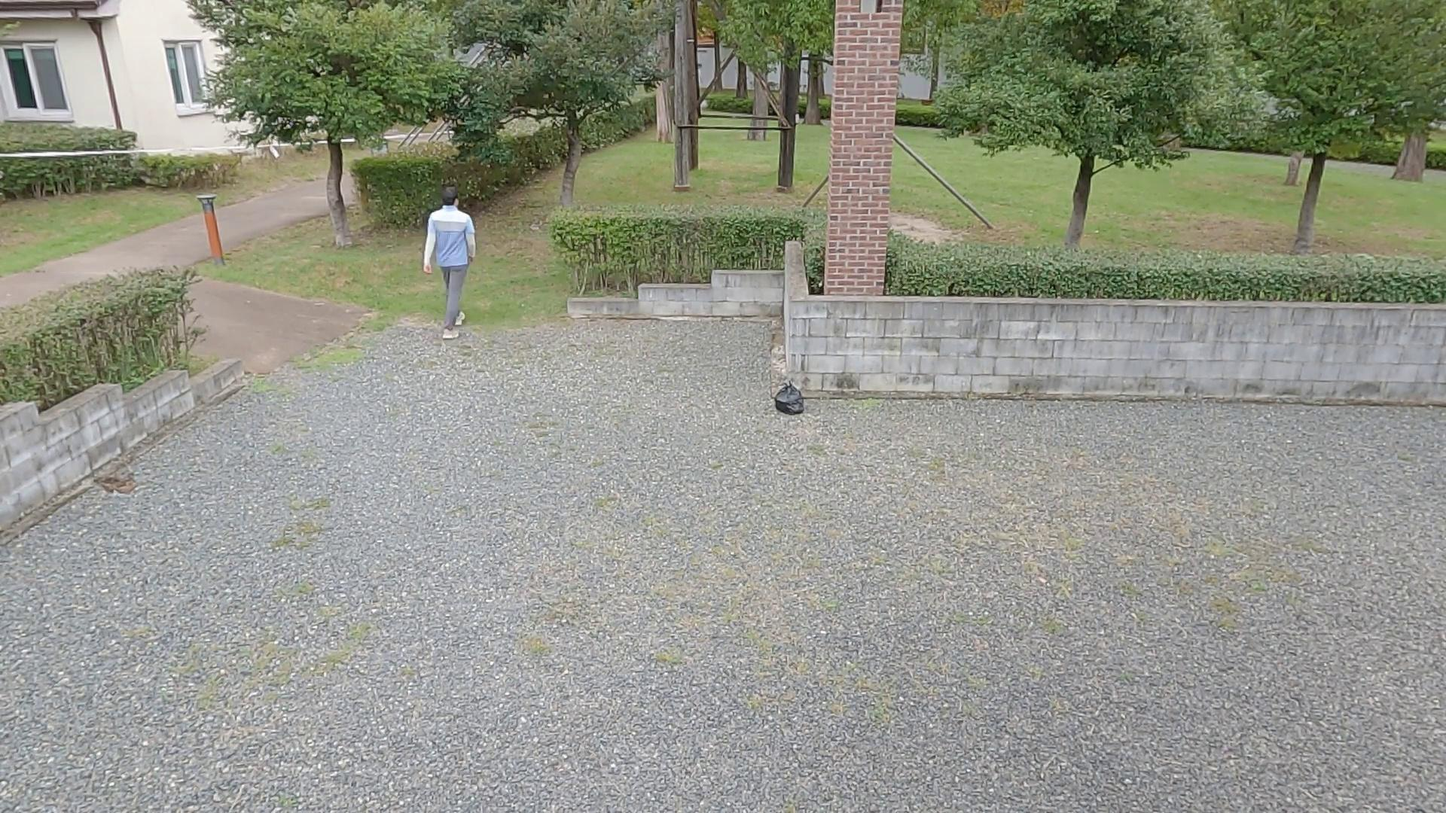person: (416, 180, 481, 345)
trash: (771, 376, 807, 414)
